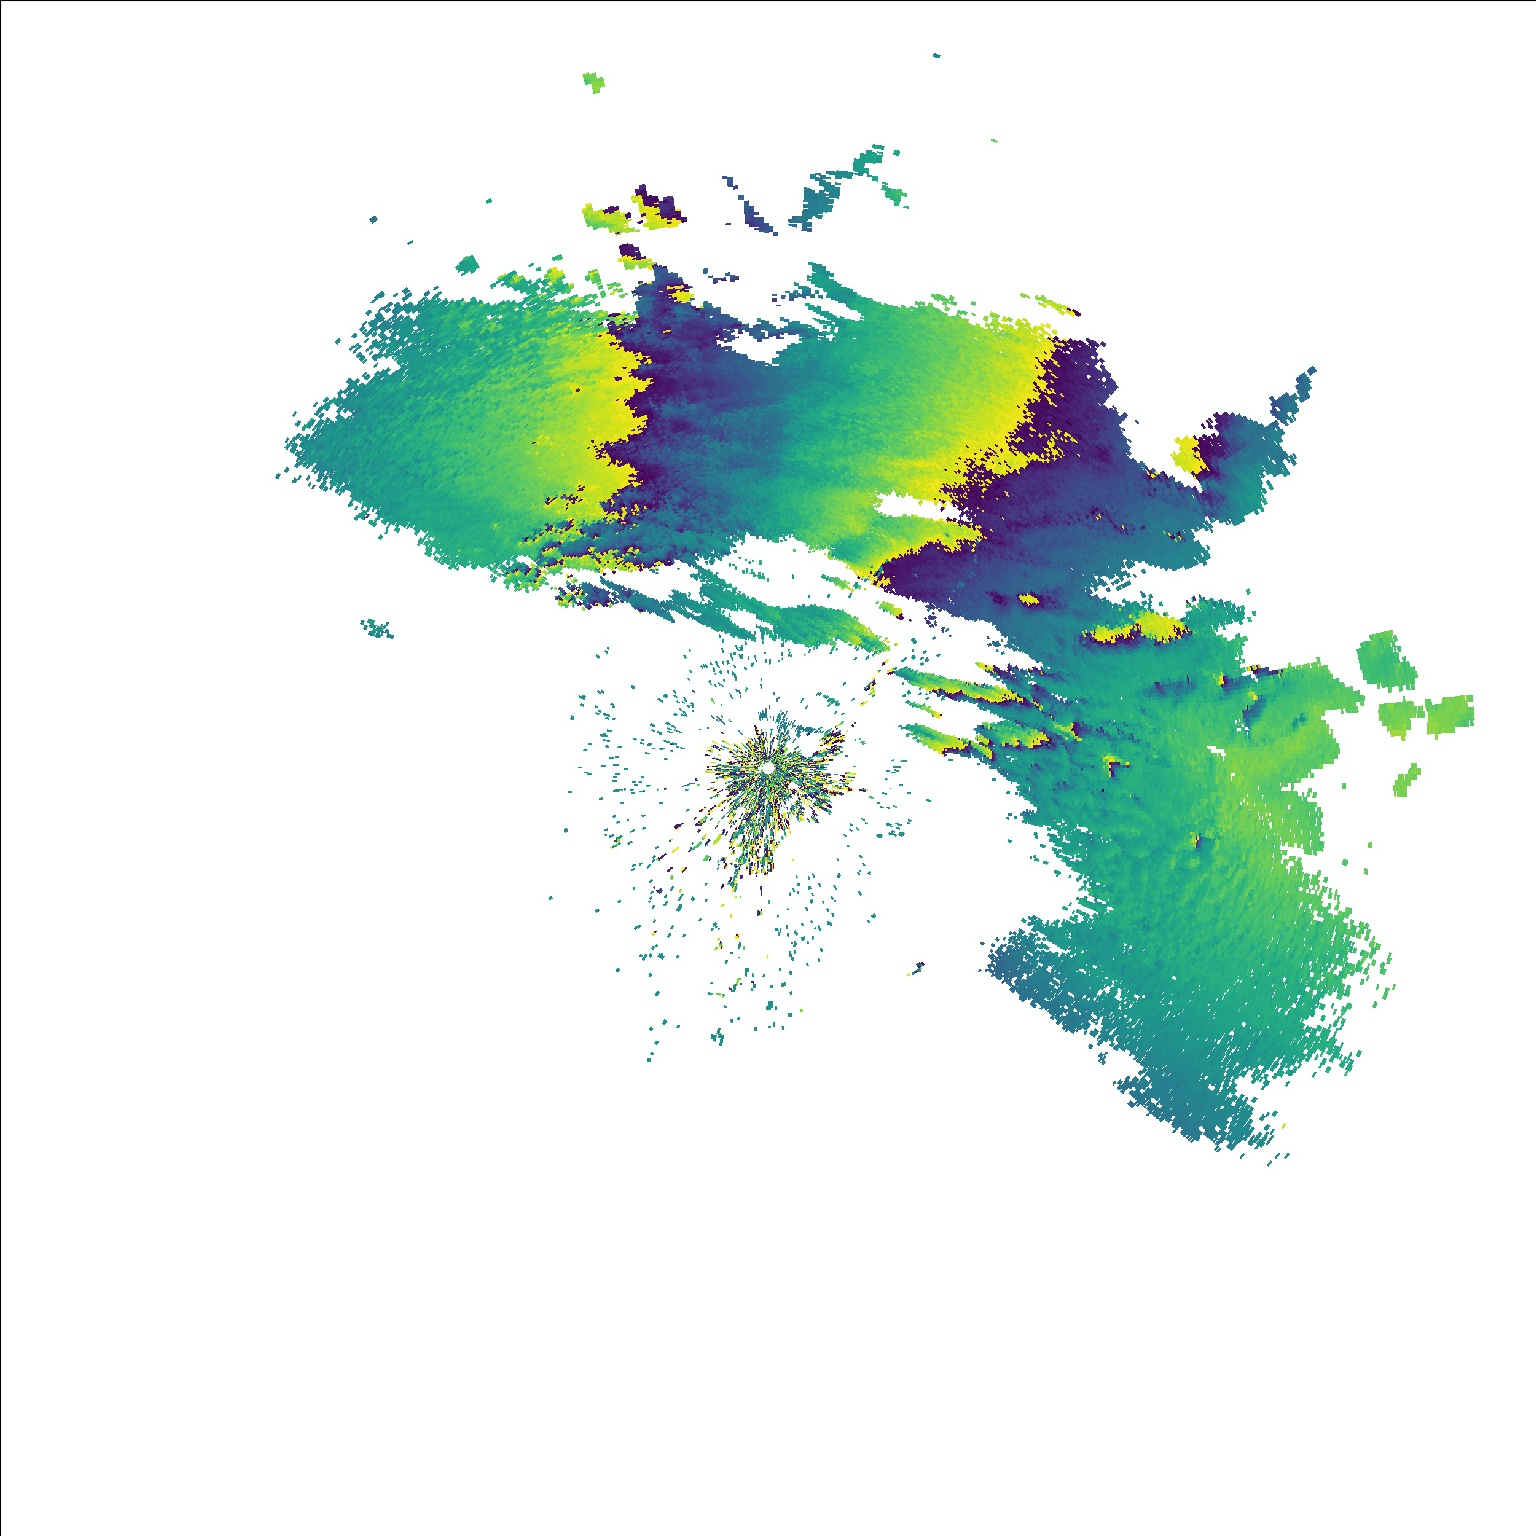fall: (906, 956, 928, 982)
